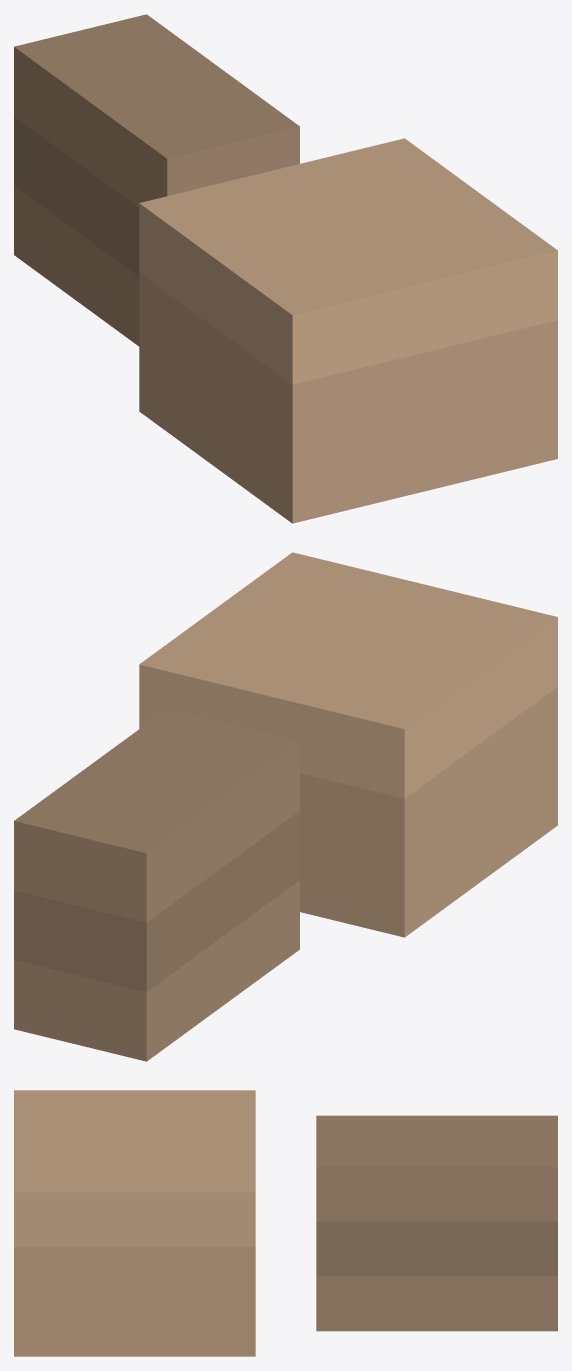
The model's file is cog.cargo.glb.
3 renders of one model, top to bottom at view 1: azimuth 30°, elevation 25°; view 2: azimuth 150°, elevation 25°; view 3: azimuth 270°, elevation 25°, orthographic. The views are drawn at different scales.
Parts seen in each view (by area): view 1: cog; view 2: cog; view 3: cog.
Boxes of the visible parts, x1,y1,x2,y2 form: cog: [14, 14, 557, 523]; cog: [14, 552, 557, 1061]; cog: [14, 1090, 557, 1356].
Bounding box in the file's own units: 0.2 × 0.15 × 0.45.
